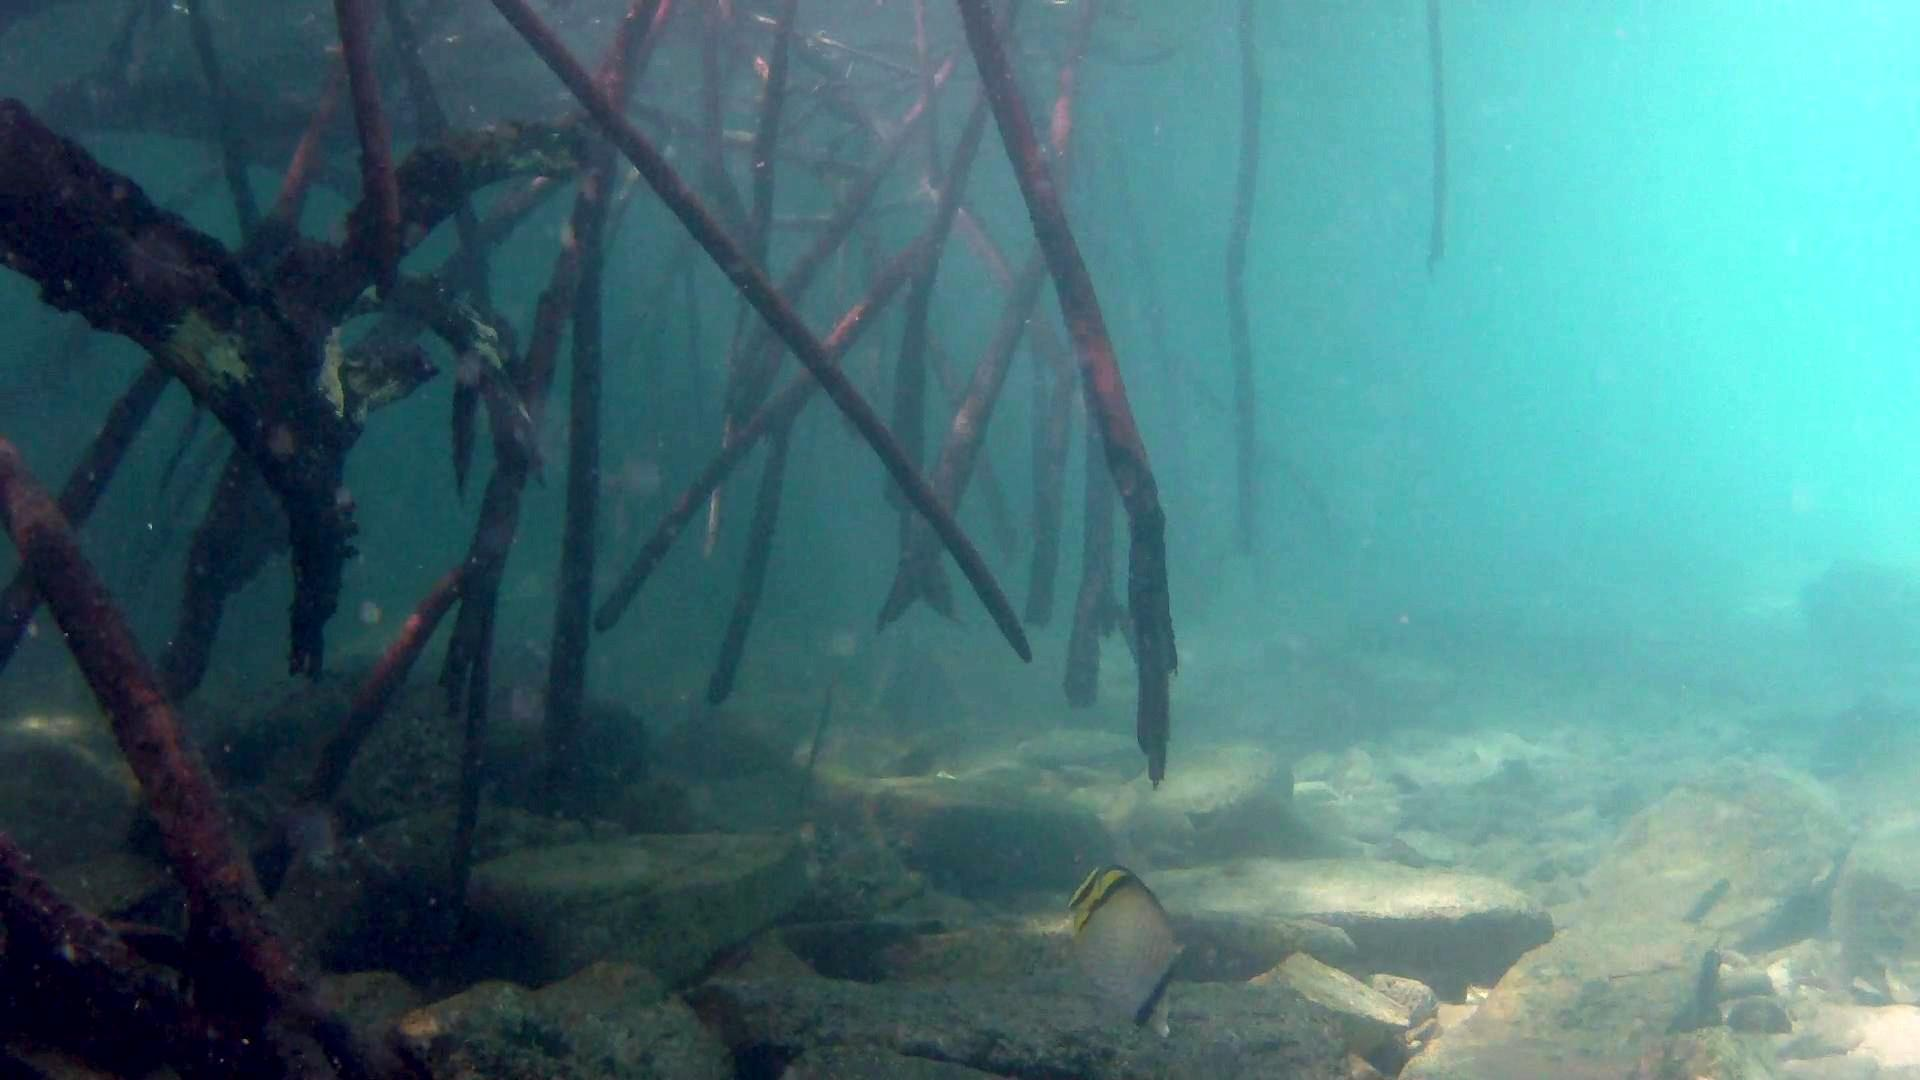chaetodon vagabundus: (1062, 857, 1183, 1043)
